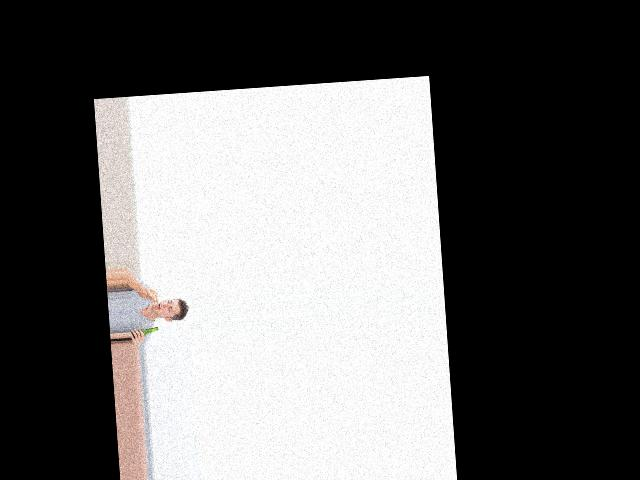beer: (130, 326, 158, 340)
